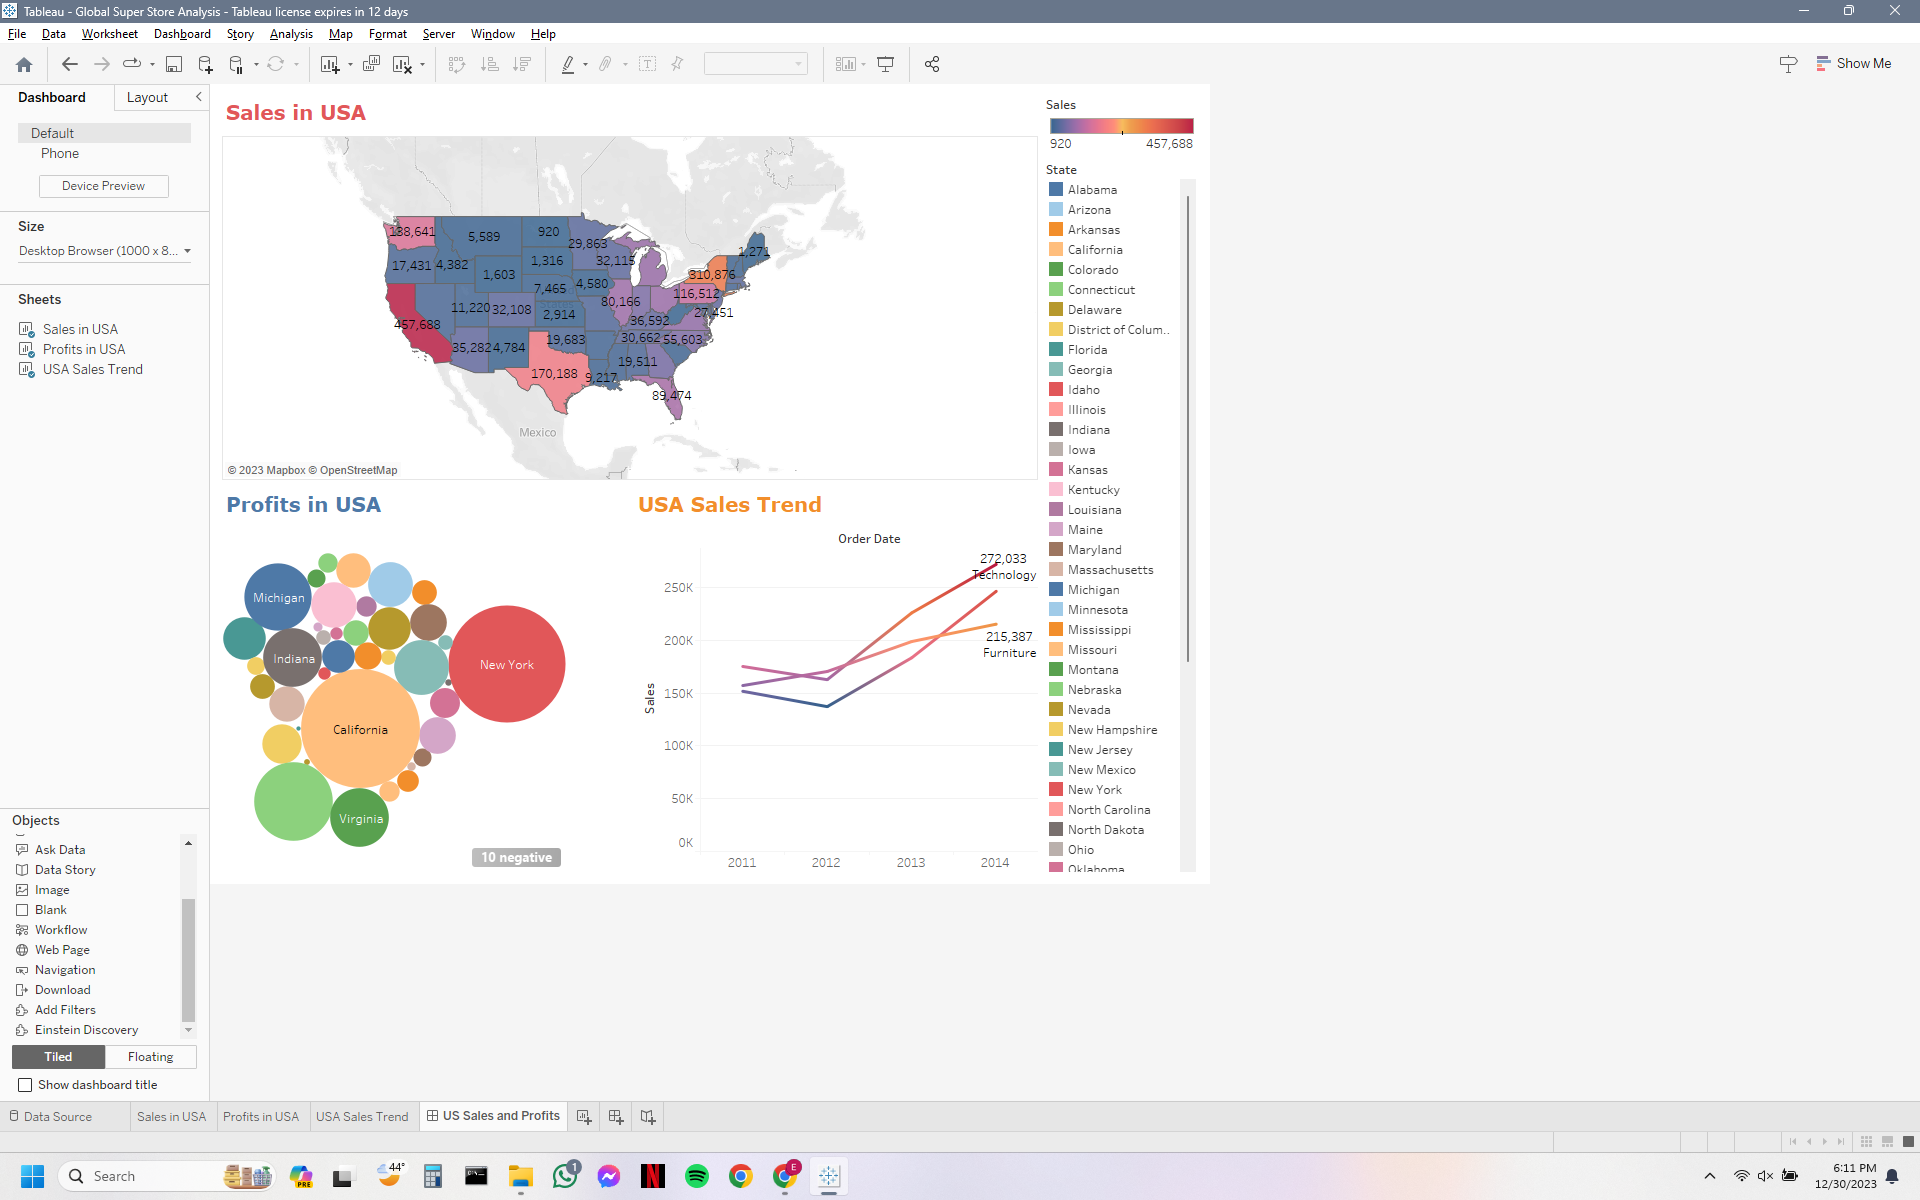

The page's visual inventory and layout, read from the dashboard file:
{"tool":"tableau","page":{"name":"US Sales and Profits","canvas":[1000,800],"ordinal":0},"visuals":[{"type":"worksheet","title":"Sales in USA","mark":"Automatic","box":[8,8,824,392]},{"type":"legend","title":"Sales in USA","param":"[federated.19u8wsd1j10lh4157i1sa0uvf8dd].[sum:Sales:qk]","box":[832,8,160,65]},{"type":"legend","title":"Profits in USA","param":"[federated.19u8wsd1j10lh4157i1sa0uvf8dd].[none:State:nk]","box":[832,73,160,719]},{"type":"worksheet","title":"Profits in USA","mark":"Circle","box":[8,400,412,392]},{"type":"worksheet","title":"USA Sales Trend","mark":"Automatic","rows":["Sales"],"cols":["Order Date"],"box":[420,400,412,392]}]}

Visuals, with their boxes on the page's 1000x800 design canvas (x1, y1, x2, y2). These are canvas units, not pixel positions in the 1920x1200 screenshot, which may show the page scaled, cropped or inside an application window:
"Sales in USA" worksheet: bbox=[8, 8, 832, 400]
"Sales in USA" legend: bbox=[832, 8, 992, 73]
"Profits in USA" legend: bbox=[832, 73, 992, 792]
"Profits in USA" worksheet (Circle marks): bbox=[8, 400, 420, 792]
"USA Sales Trend" worksheet: bbox=[420, 400, 832, 792]
